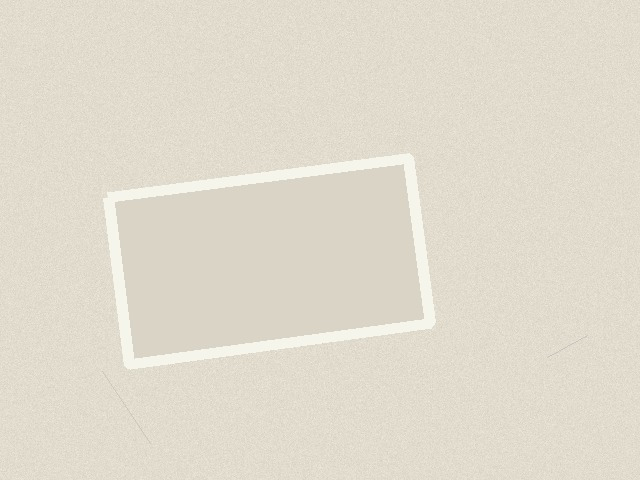parking_area: (108, 158, 430, 364)
